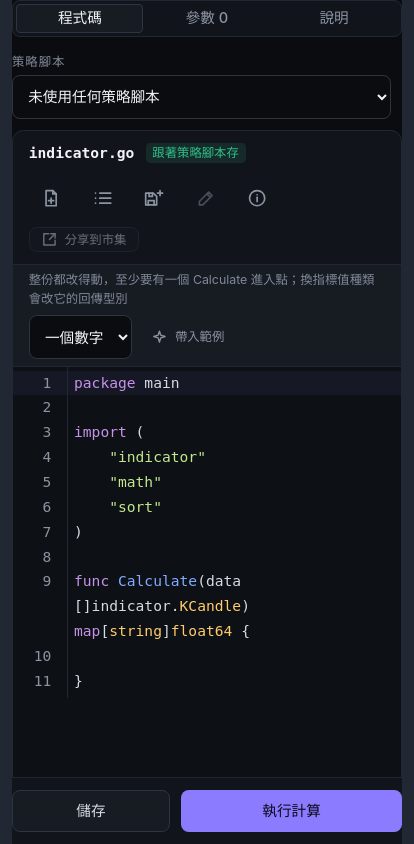
Scenario: 策略腳本畫面上的策略腳本：挑一支來用 › 挑一支就把它記住的算法帶進畫面
Select "二十根均線" in the dropdown with test id "strategy-script-picker-select": (201, 97) x1=12 y1=75 x2=391 y2=119
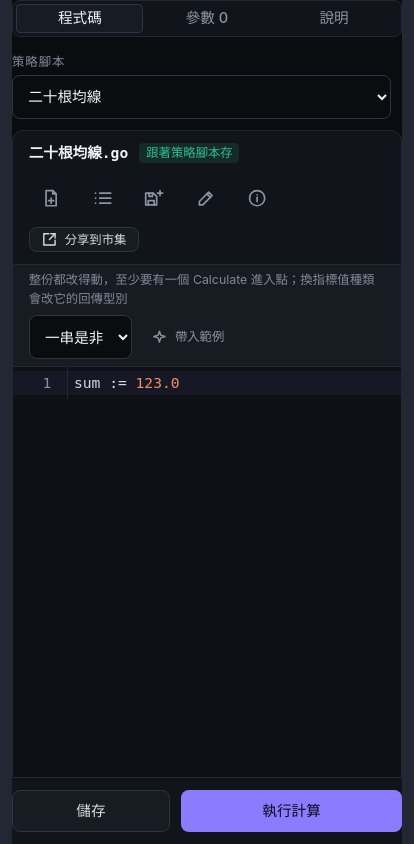
Result: the text box labelled "sum := 123.0" is shown at x1=68 y1=371 x2=401 y2=396
Result: the dropdown with test id "result-type-select" shows "一串是非" at x1=29 y1=315 x2=132 y2=359
